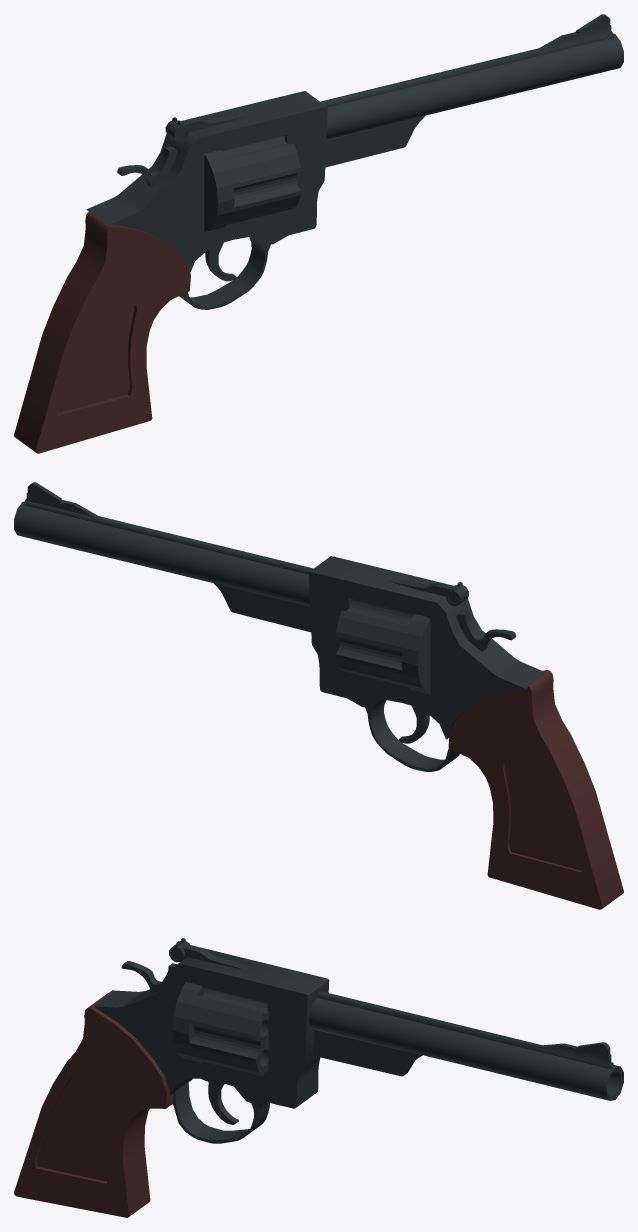
The model's file is Gun01.fbx.
3 views of the same model, one above another, from view 1: azimuth 30°, elevation 25°; view 2: azimuth 150°, elevation 25°; view 3: azimuth 330°, elevation 25° (orthographic).
Parts seen in each view (by area): view 1: Cylinder.003, Cylinder.006, Cylinder.002, Cylinder.001; view 2: Cylinder.003, Cylinder.006, Cylinder.002, Cylinder.001; view 3: Cylinder.003, Cylinder.006, Cylinder.002, Cylinder.001.
Part boxes in pixels (x1,y1,x2,y2): Cylinder.003: [14, 210, 190, 453]; Cylinder.006: [86, 91, 327, 309]; Cylinder.002: [284, 14, 623, 167]; Cylinder.001: [204, 135, 301, 231]; Cylinder.003: [449, 670, 623, 909]; Cylinder.006: [308, 556, 544, 771]; Cylinder.002: [14, 482, 351, 632]; Cylinder.001: [335, 598, 430, 694]; Cylinder.003: [14, 992, 173, 1217]; Cylinder.006: [93, 938, 329, 1143]; Cylinder.002: [309, 991, 623, 1100]; Cylinder.001: [172, 982, 268, 1076].
Bounding box in the file's own units: 24.88 × 11.47 × 3.52.
